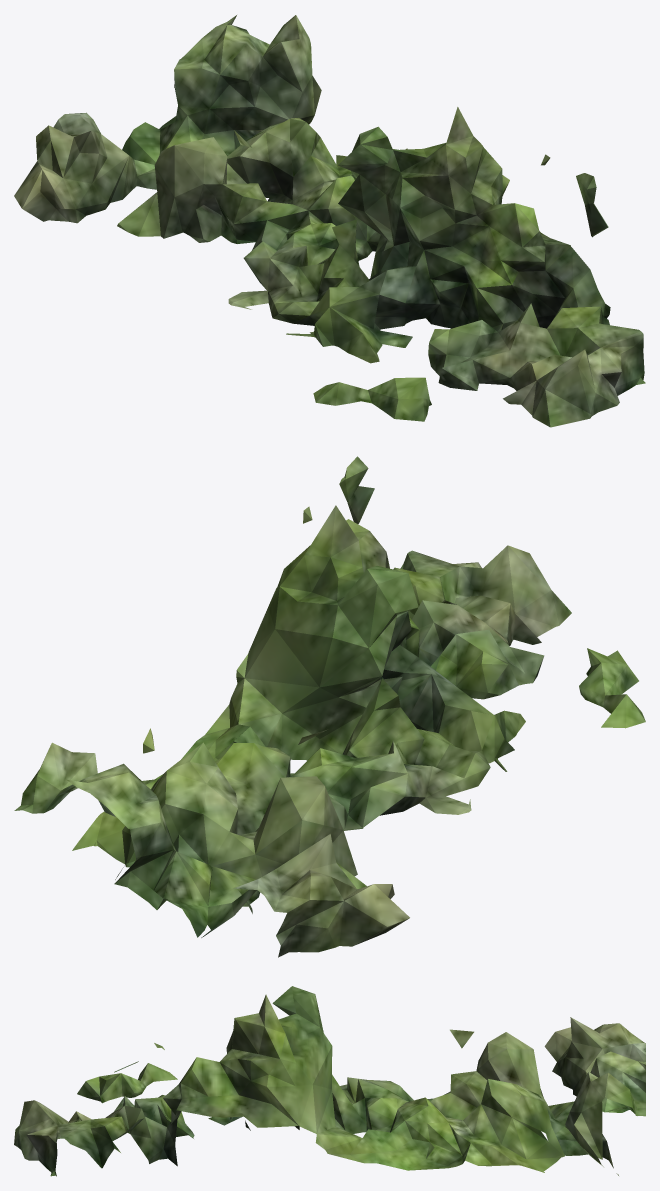
The picture shows the model from 3 angles, top to bottom: view 1: azimuth 30°, elevation 25°; view 2: azimuth 150°, elevation 25°; view 3: azimuth 270°, elevation 25°; orthographic projection. The views are drawn at different scales.
Size of the model in its own units: 37.88 by 22.73 by 81.64.
Materials: 1 (1 with a texture image).
